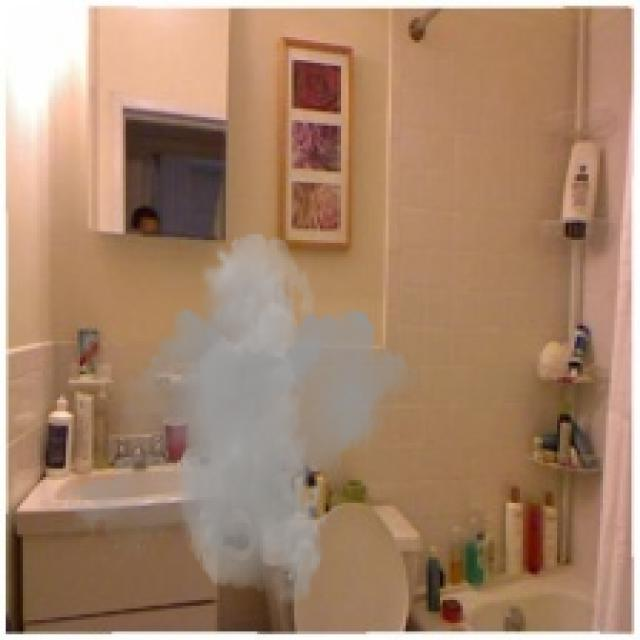smoke: (63, 231, 420, 606)
